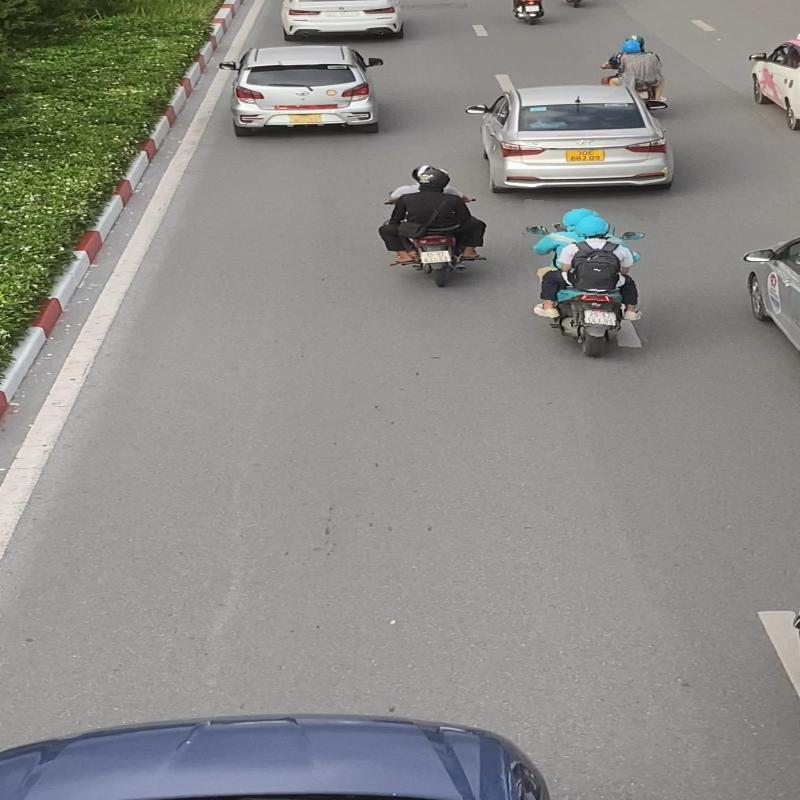helmet: (576, 216, 614, 237), (560, 207, 594, 227)
licenseplate: (578, 308, 620, 330)
motorcyclist: (514, 202, 658, 364)
